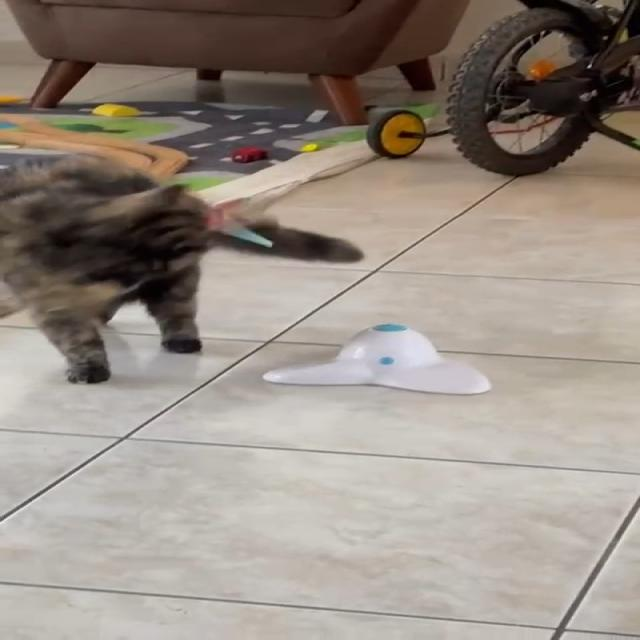authorized: (0, 141, 373, 384)
